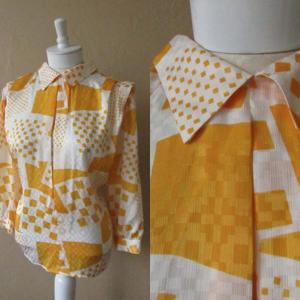C_blouse: (1, 59, 145, 285)
